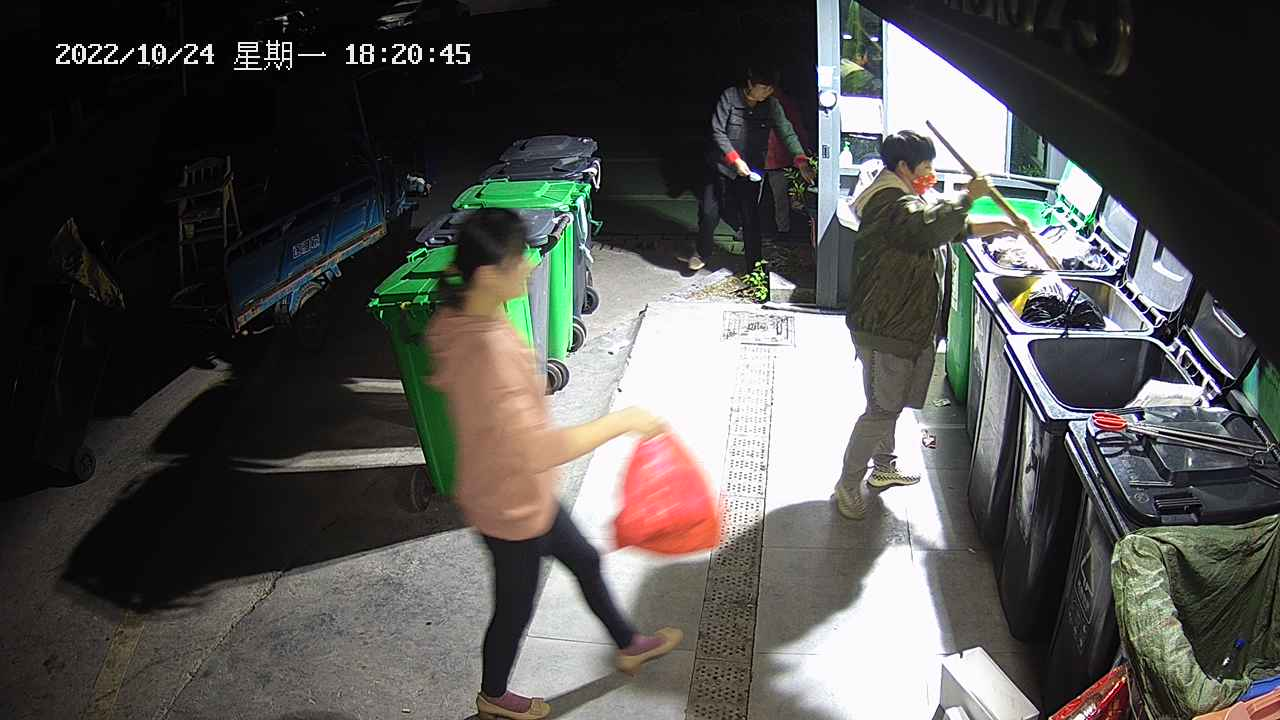garbage-bag: (607, 419, 723, 560)
person: (419, 206, 687, 720), (829, 128, 1030, 522), (687, 57, 815, 287)
